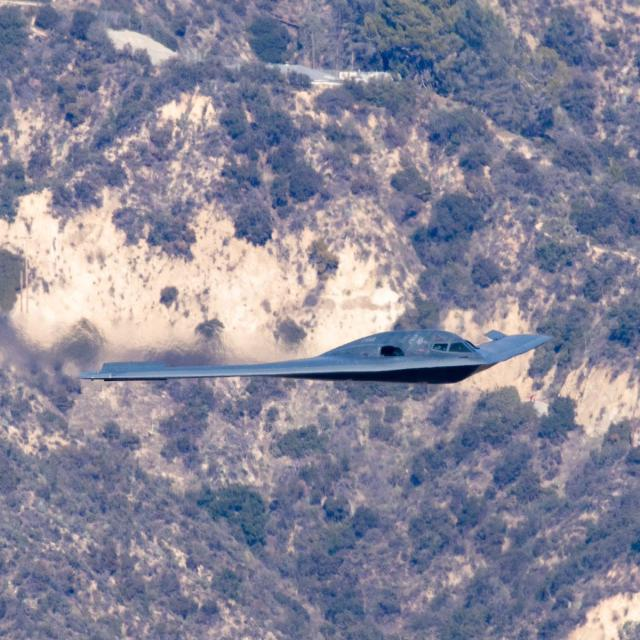MIL_Plane: (76, 329, 555, 384)
